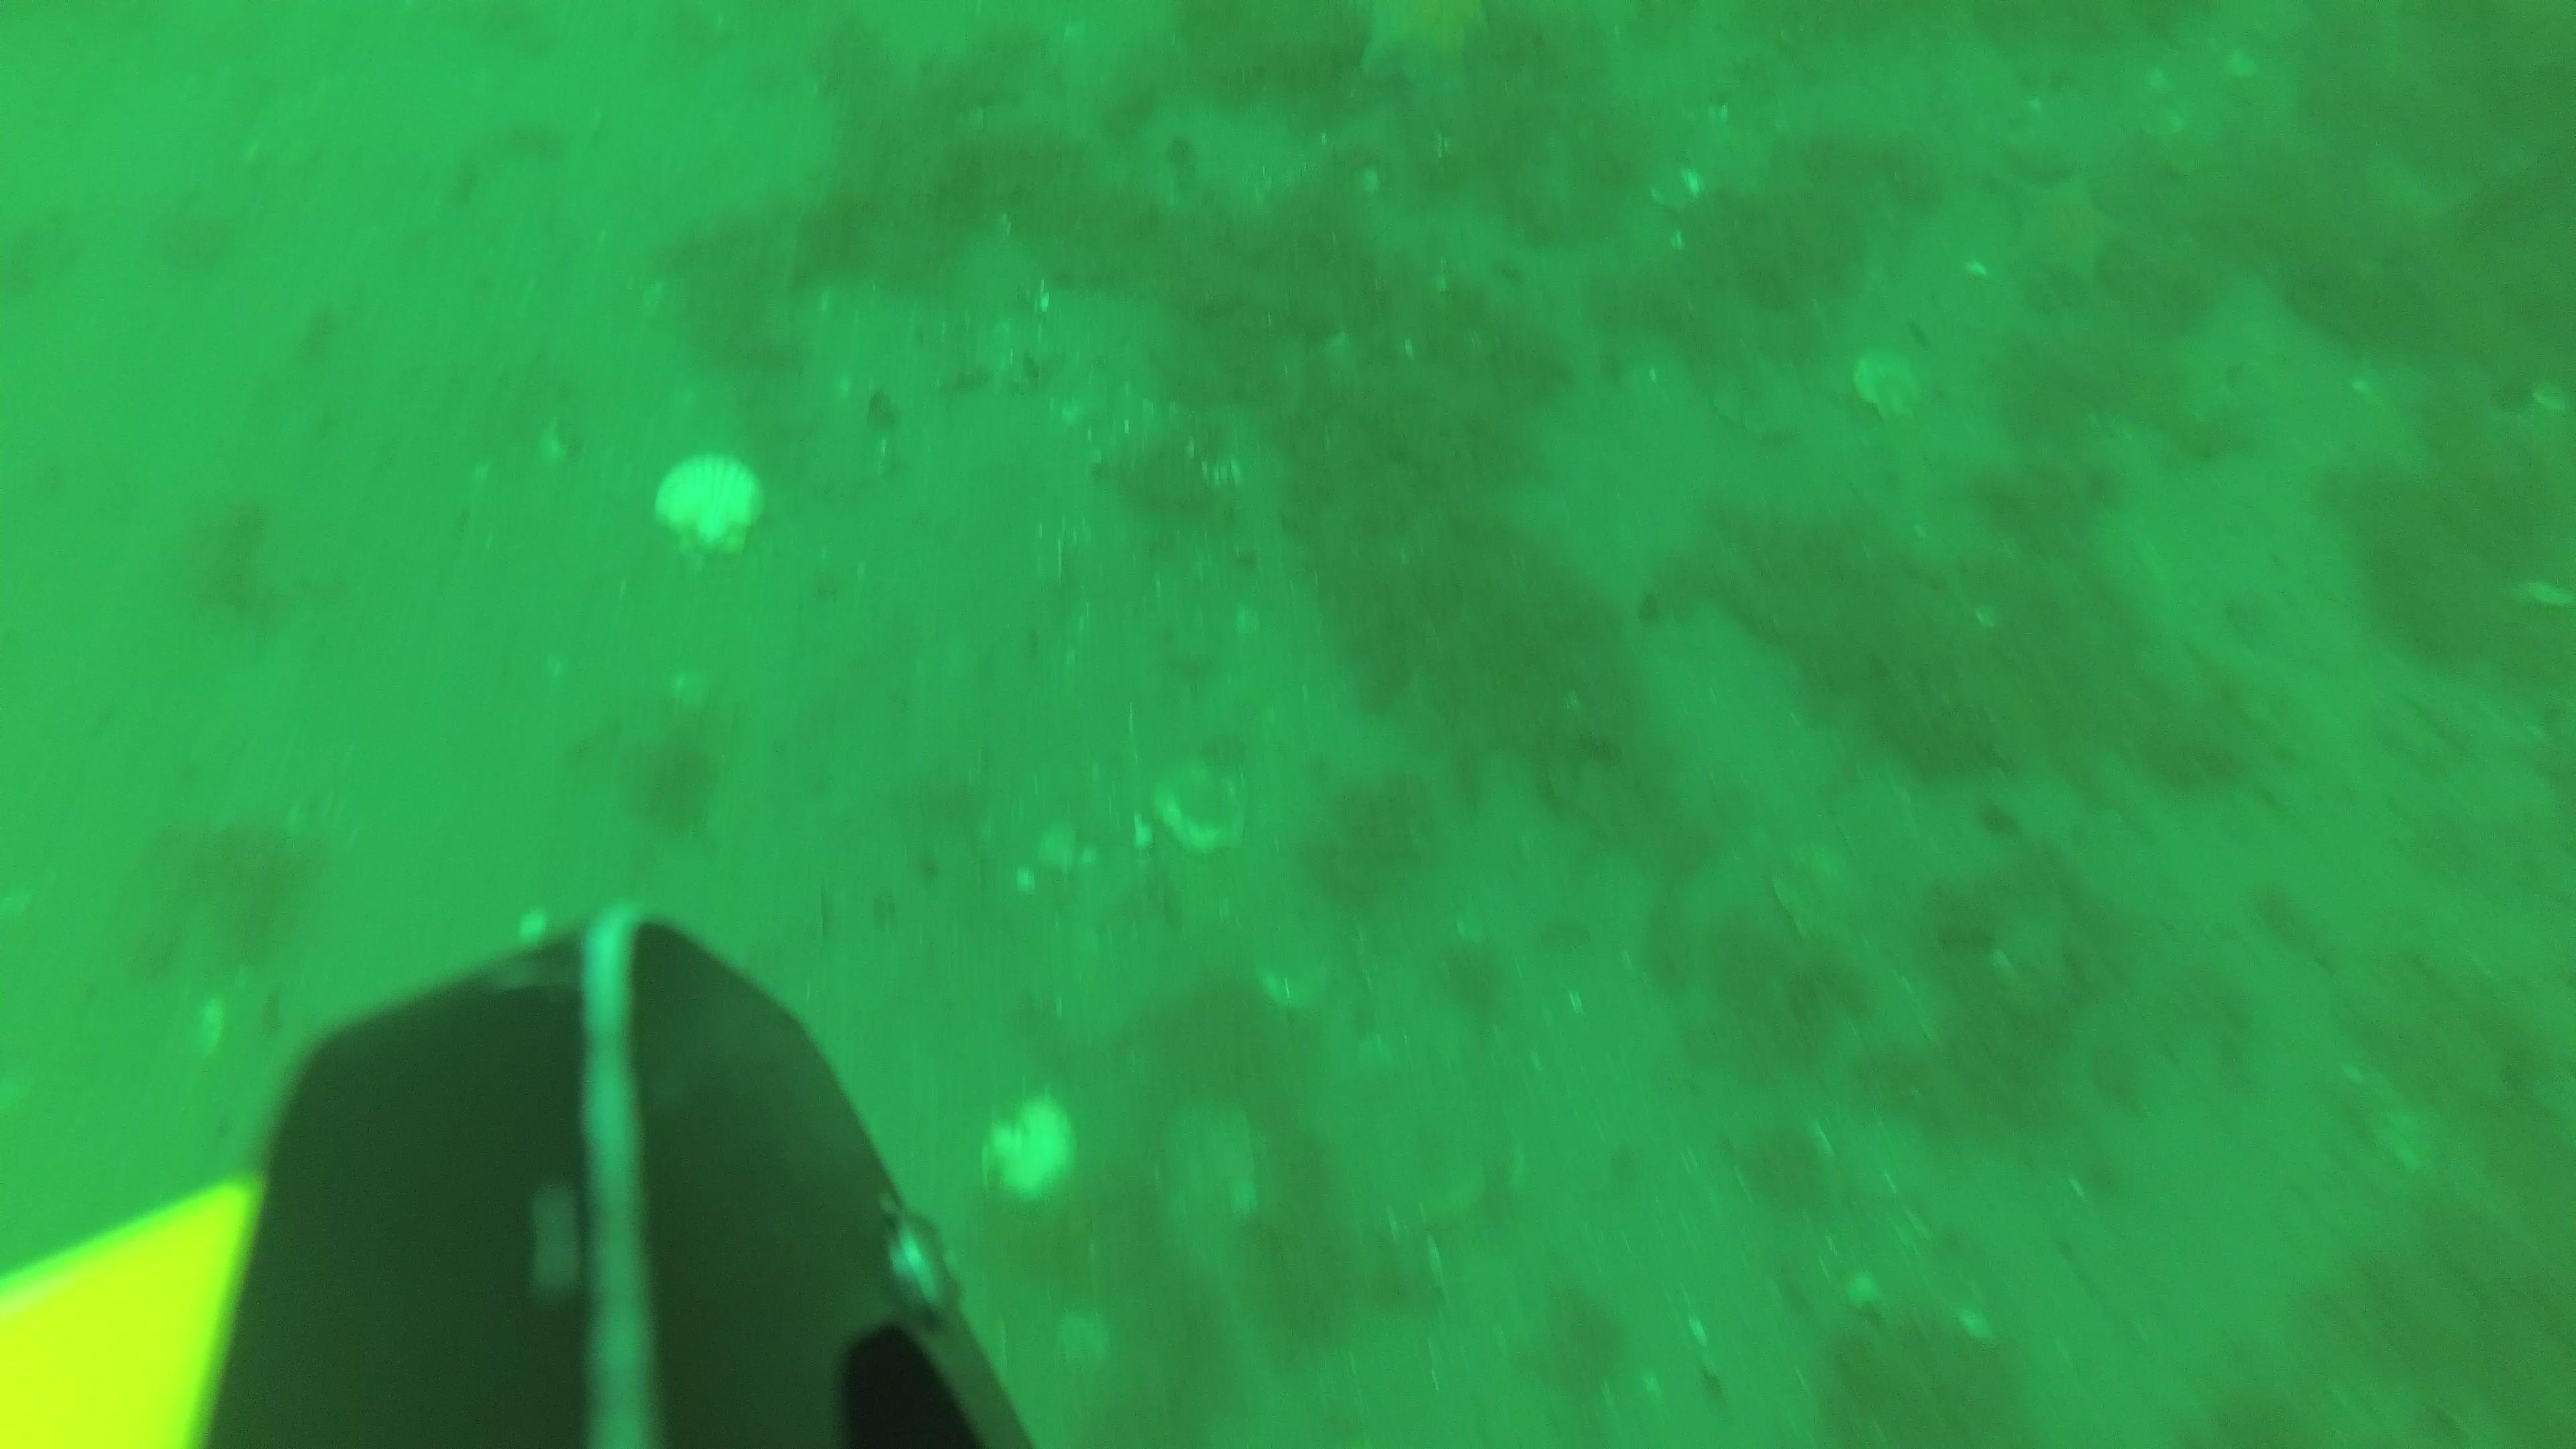scallop: (1146, 1092, 1265, 1244), (970, 1088, 1086, 1215), (646, 453, 773, 566), (1757, 839, 1868, 938), (1150, 755, 1258, 856), (1704, 349, 1815, 444), (1246, 931, 1343, 1019), (1849, 345, 1930, 421)
starfish: (1346, 0, 1502, 103), (1994, 166, 2127, 287)
